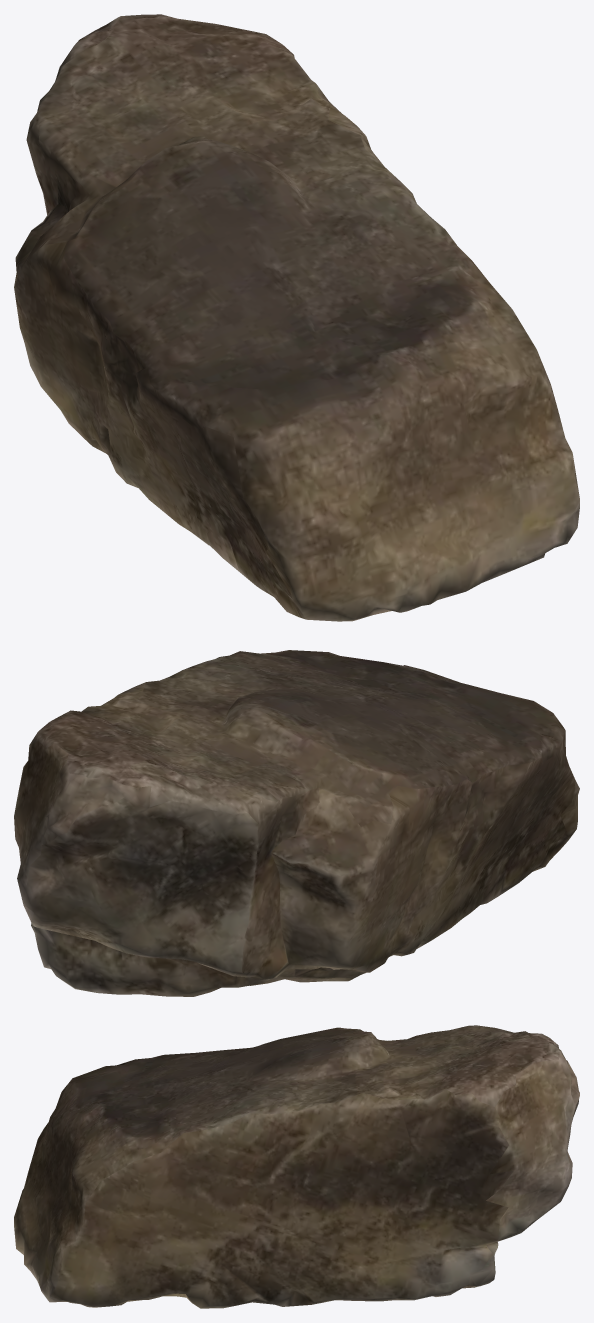
Rendered from rock_07.glb.
3 views of the same model, one above another, from view 1: azimuth 30°, elevation 25°; view 2: azimuth 150°, elevation 25°; view 3: azimuth 270°, elevation 25° (orthographic). The views are drawn at different scales.
Visible parts, largest first — view 1: rock_07_lod0; view 2: rock_07_lod0; view 3: rock_07_lod0.
Part boxes in pixels (x1=…): rock_07_lod0: x1=14, y1=14, x2=579, y2=621; rock_07_lod0: x1=14, y1=650, x2=579, y2=996; rock_07_lod0: x1=14, y1=1025, x2=579, y2=1308.
Size of what is drawn, in the model's own units: 0.1685 by 0.1437 by 0.3201.
Materials: 1 (1 with a texture image).
